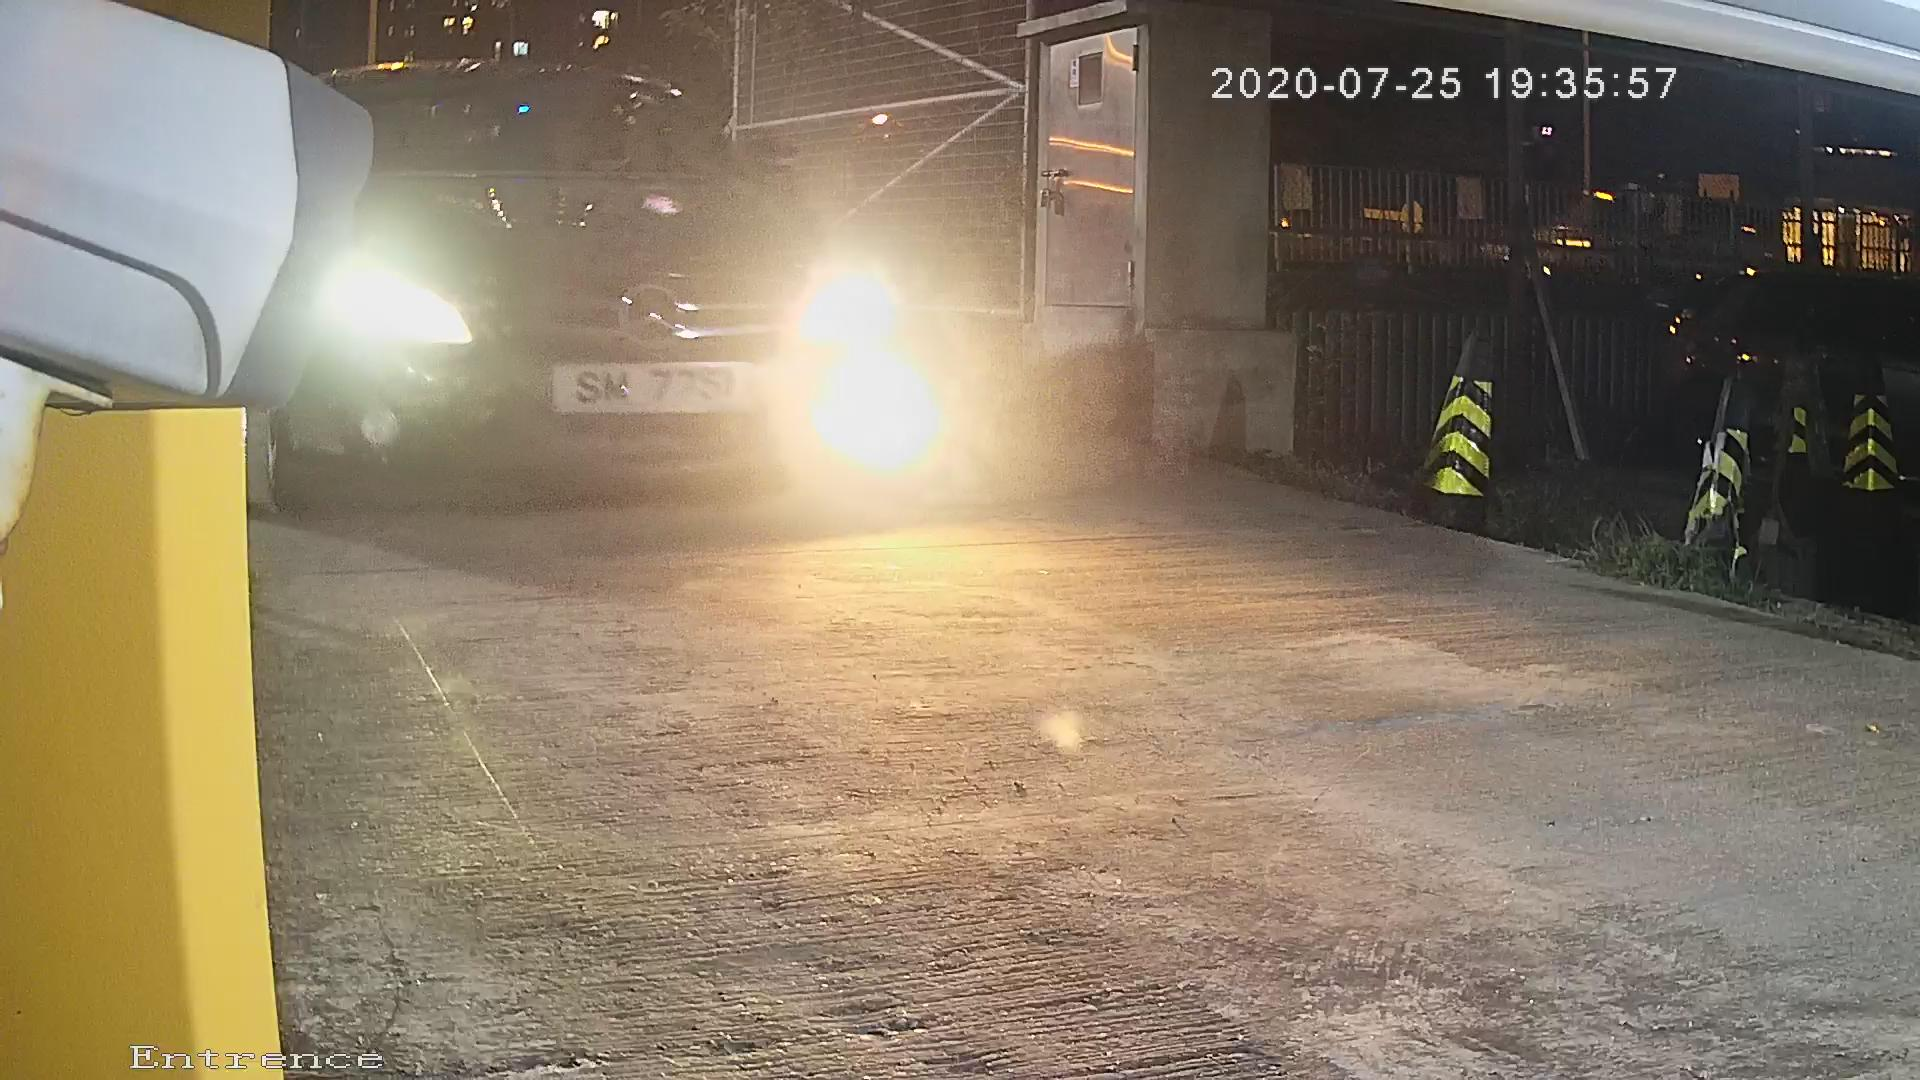License Plate: (534, 339, 807, 458)
